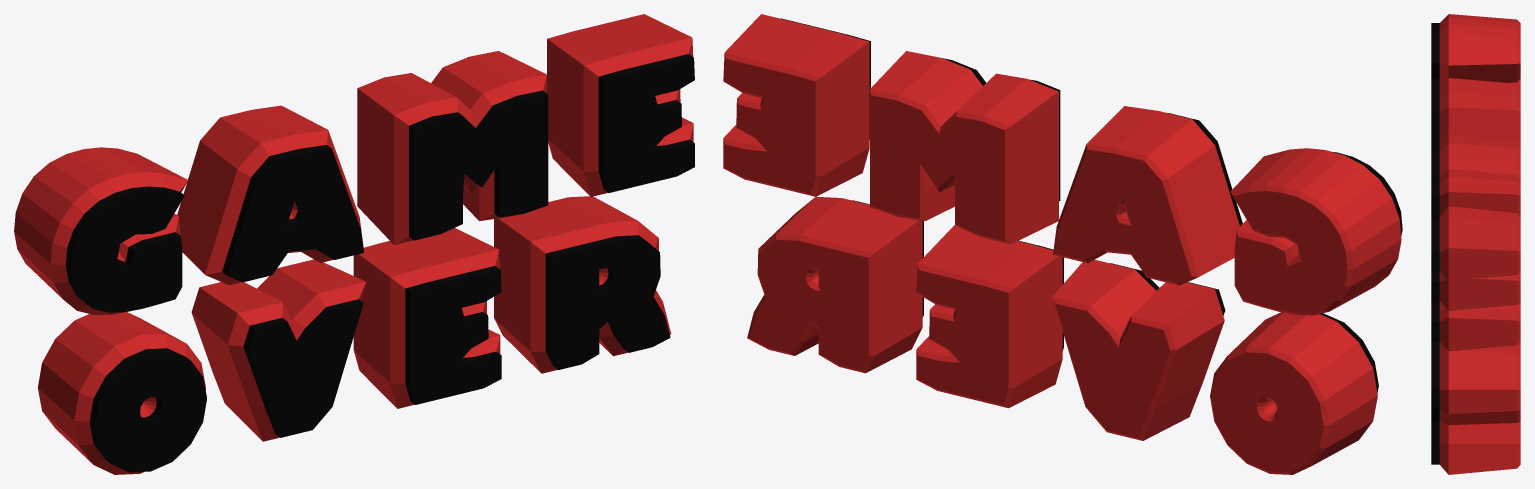
The model's file is Game Over.fbx.
3 views of the same model, side by side, from view 1: azimuth 30°, elevation 25°; view 2: azimuth 150°, elevation 25°; view 3: azimuth 270°, elevation 25° (orthographic). The views are drawn at different scales.
Visible parts, largest first — view 1: MoText_1; view 2: MoText_1; view 3: MoText_1.
Boxes of the visible parts, bbox=[...] form: MoText_1: bbox=[14, 14, 694, 474]; MoText_1: bbox=[723, 14, 1402, 474]; MoText_1: bbox=[1431, 14, 1520, 474].
Bounding box in the file's own units: 875 × 394 × 130.
